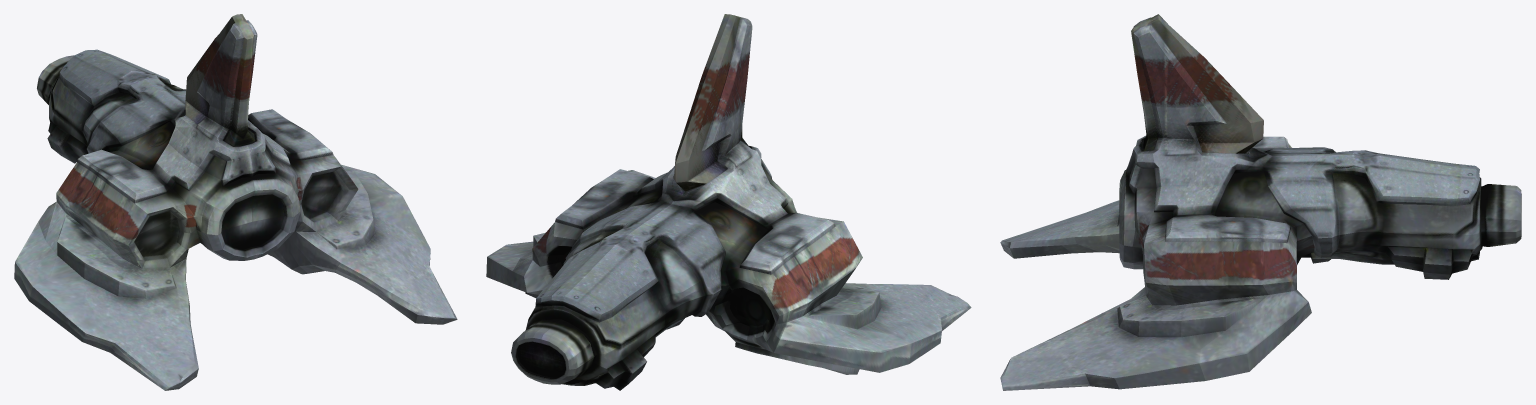
The model's file is SHIP2b.FBX.
3 renders of one model, left to right at view 1: azimuth 30°, elevation 25°; view 2: azimuth 150°, elevation 25°; view 3: azimuth 270°, elevation 25°, orthographic. The views are drawn at different scales.
Parts seen in each view (by area): view 1: New_ship; view 2: New_ship; view 3: New_ship.
Part boxes in pixels (x1,y1,x2,y2): New_ship: (14, 14, 457, 390); New_ship: (486, 14, 971, 390); New_ship: (1000, 14, 1521, 390).
Size of the model in its own units: 3.64 by 4.22 by 2.7.
Materials: 1 (1 with a texture image).
